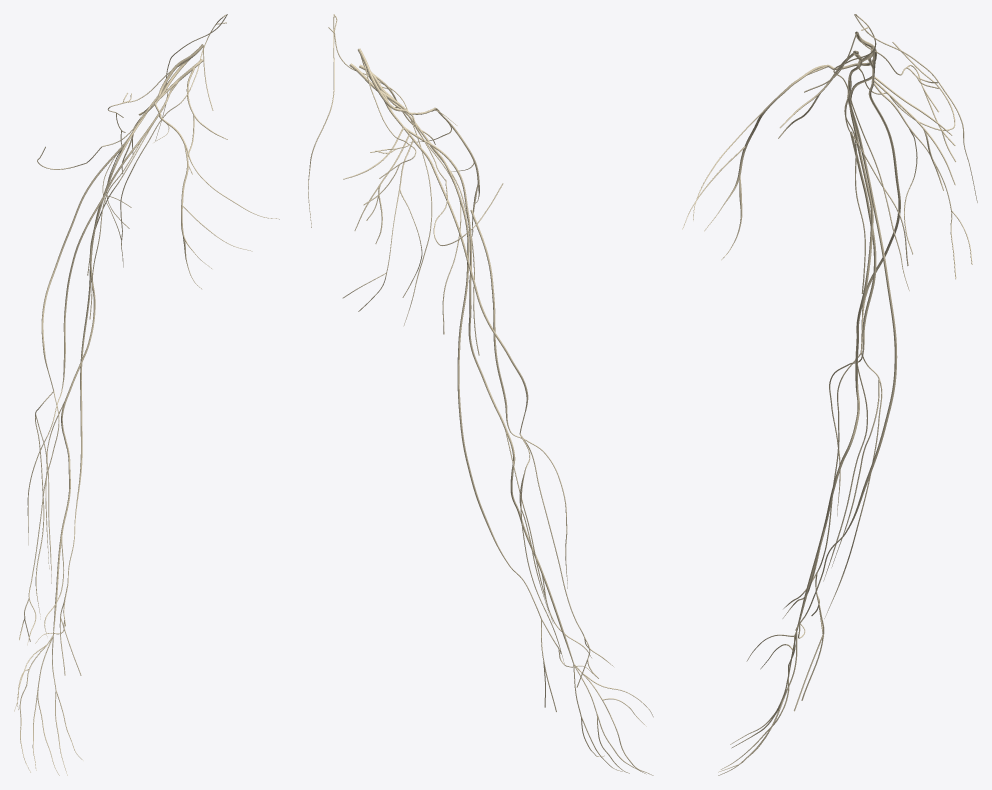
The model's file is z-upper-limb-nerve.glb.
3 views of the same model, side by side, from view 1: azimuth 30°, elevation 25°; view 2: azimuth 150°, elevation 25°; view 3: azimuth 270°, elevation 25° (orthographic). The views are drawn at different scales.
Parts seen in each view (by area): view 1: z-median-nerve-r, z-ulnar-nerve-r, z-lateral-pectoral-nerve-r, z-proper-palmar-digital-branches-of-median-nerve-r, z-radial-nerve-r, z-superficial-branch-of-radial-nerve-r, z-musculocutaneous-nerve-r; view 2: z-median-nerve-r, z-ulnar-nerve-r, z-radial-nerve-r, z-proper-palmar-digital-branches-of-median-nerve-r, z-musculocutaneous-nerve-r; view 3: z-median-nerve-r, z-ulnar-nerve-r, z-lateral-pectoral-nerve-r, z-proper-palmar-digital-branches-of-median-nerve-r, z-radial-nerve-r, z-thoracodorsal-nerve-r, z-musculocutaneous-nerve-r, z-long-thoracic-nerve-r, z-superficial-branch-of-radial-nerve-r.
Part boxes in pixels (box(x1,y1,x2,y2)): z-median-nerve-r: box(53, 106, 150, 635); z-ulnar-nerve-r: box(67, 102, 164, 583); z-lateral-pectoral-nerve-r: box(153, 101, 279, 289); z-proper-palmar-digital-branches-of-median-nerve-r: box(14, 644, 83, 775); z-radial-nerve-r: box(41, 118, 141, 391); z-superficial-branch-of-radial-nerve-r: box(19, 391, 59, 645); z-musculocutaneous-nerve-r: box(62, 193, 106, 388); z-median-nerve-r: box(404, 127, 574, 664); z-ulnar-nerve-r: box(404, 112, 541, 619); z-radial-nerve-r: box(413, 139, 528, 433); z-proper-palmar-digital-branches-of-median-nerve-r: box(581, 673, 653, 775); z-musculocutaneous-nerve-r: box(470, 210, 510, 431); z-median-nerve-r: box(796, 76, 873, 631); z-ulnar-nerve-r: box(815, 71, 897, 591); z-lateral-pectoral-nerve-r: box(682, 63, 857, 260); z-proper-palmar-digital-branches-of-median-nerve-r: box(718, 634, 793, 775); z-radial-nerve-r: box(860, 83, 900, 353); z-thoracodorsal-nerve-r: box(873, 83, 972, 279); z-musculocutaneous-nerve-r: box(850, 131, 876, 358); z-long-thoracic-nerve-r: box(833, 14, 909, 290); z-superficial-branch-of-radial-nerve-r: box(783, 353, 861, 633).
Size of the model in its own units: 2.96 by 7.56 by 2.25.
